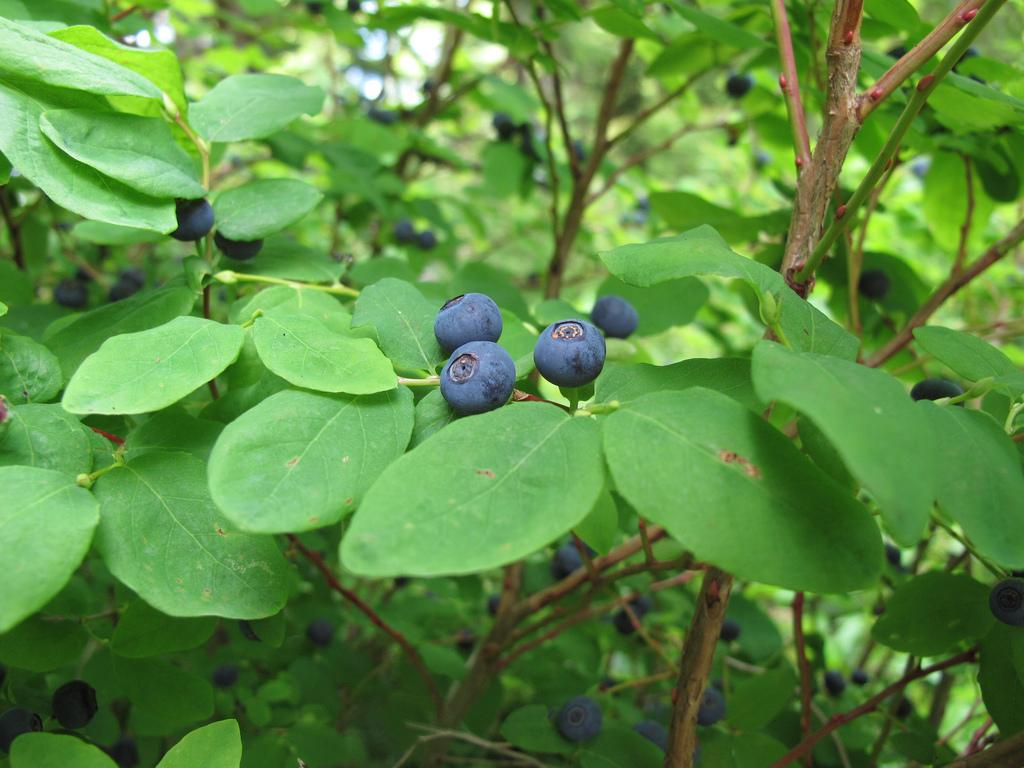Blueberry leaf: (598, 386, 903, 617), (346, 405, 609, 597), (762, 319, 938, 546), (93, 444, 293, 641), (203, 375, 418, 545), (48, 315, 257, 426), (1, 462, 107, 638), (41, 99, 207, 207), (247, 293, 407, 398), (182, 68, 351, 148), (211, 174, 337, 251)
